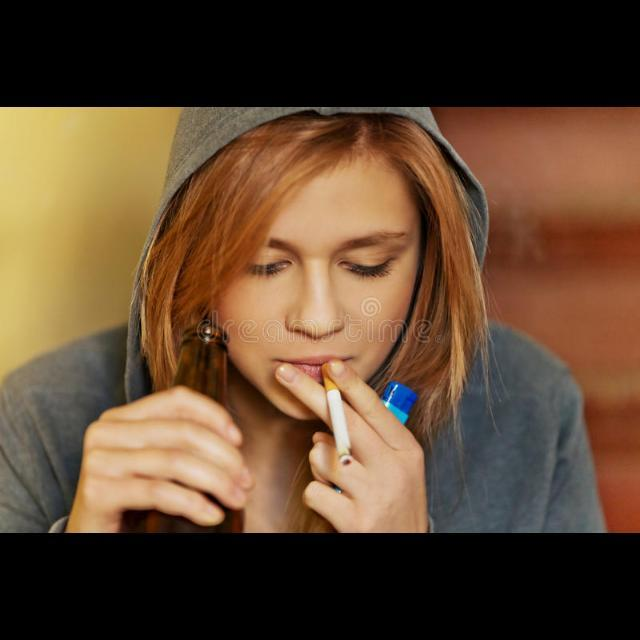rokok: (318, 360, 359, 470)
